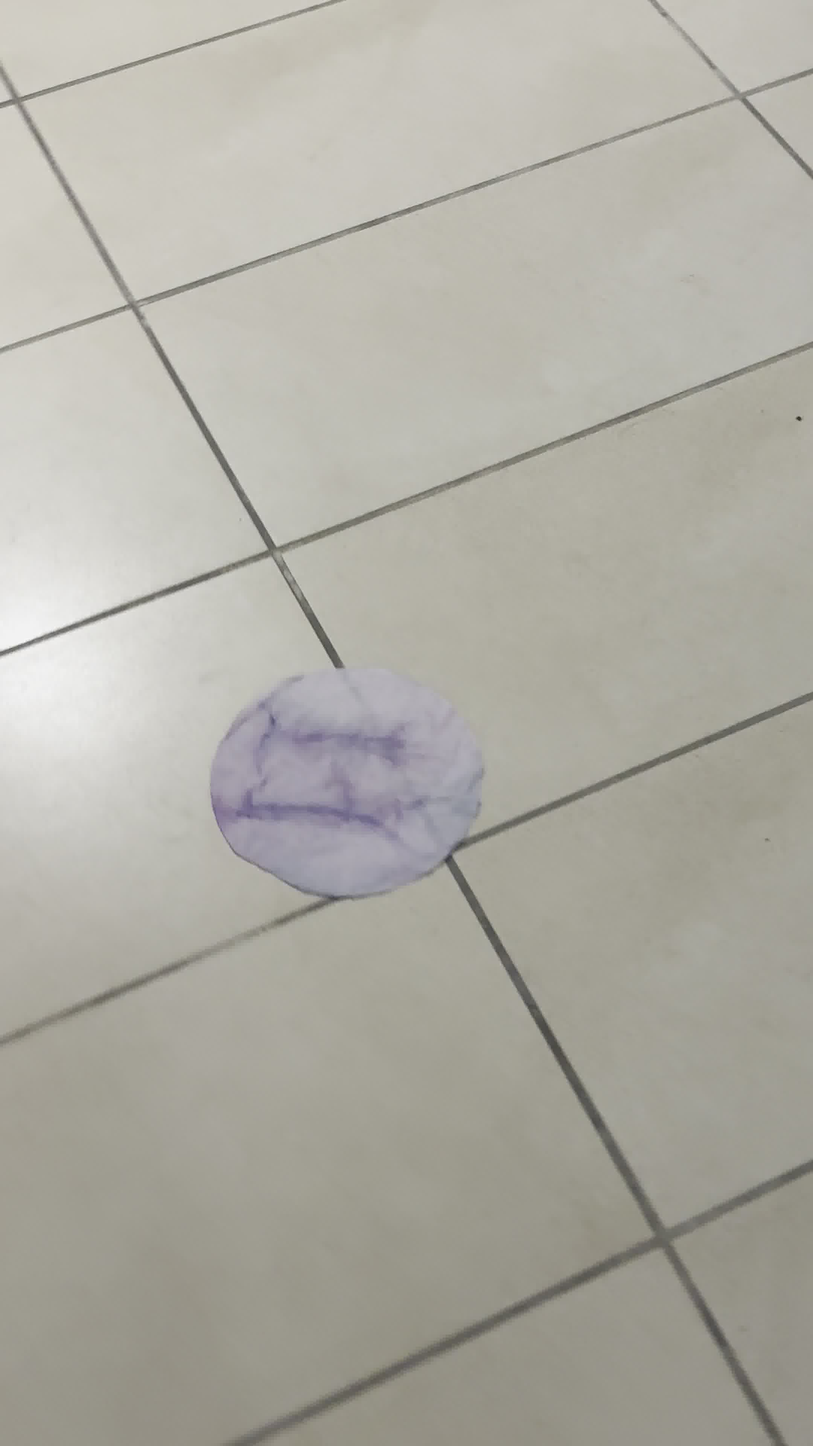Target: (212, 667, 486, 898)
